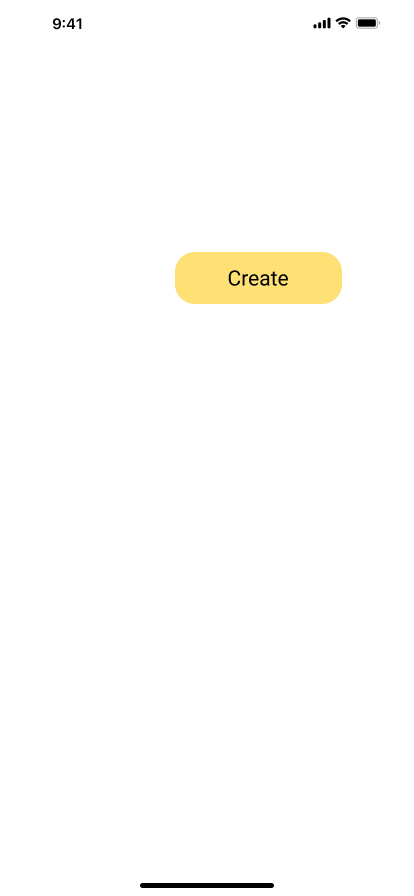Buttons: (175, 252, 342, 304)
Home Indicator: (0, 862, 414, 896)
Status Bar: (0, 0, 414, 44)
